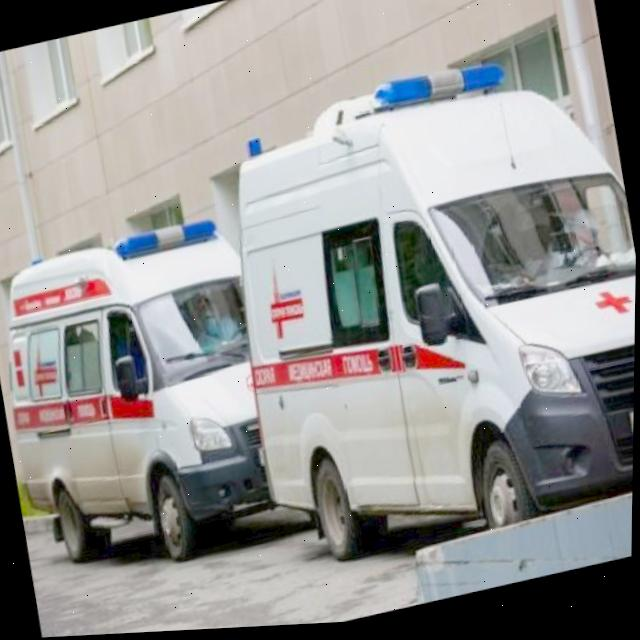emergency: (200, 36, 639, 584), (0, 209, 291, 594)
